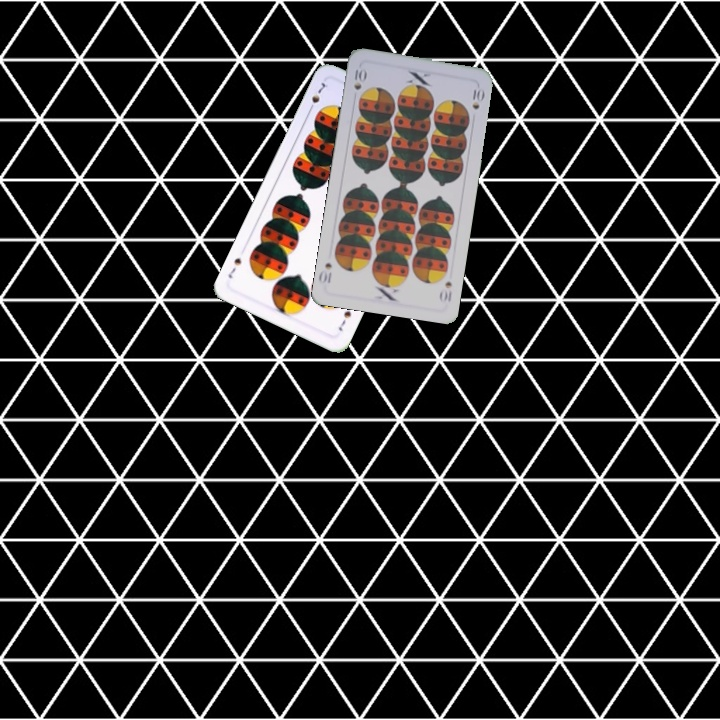S10: (350, 63, 369, 92), (436, 278, 454, 304)
S7: (304, 78, 331, 115), (334, 307, 354, 334)
